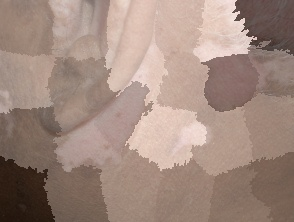vitiligo: (41, 44, 209, 207), (183, 3, 294, 102)
